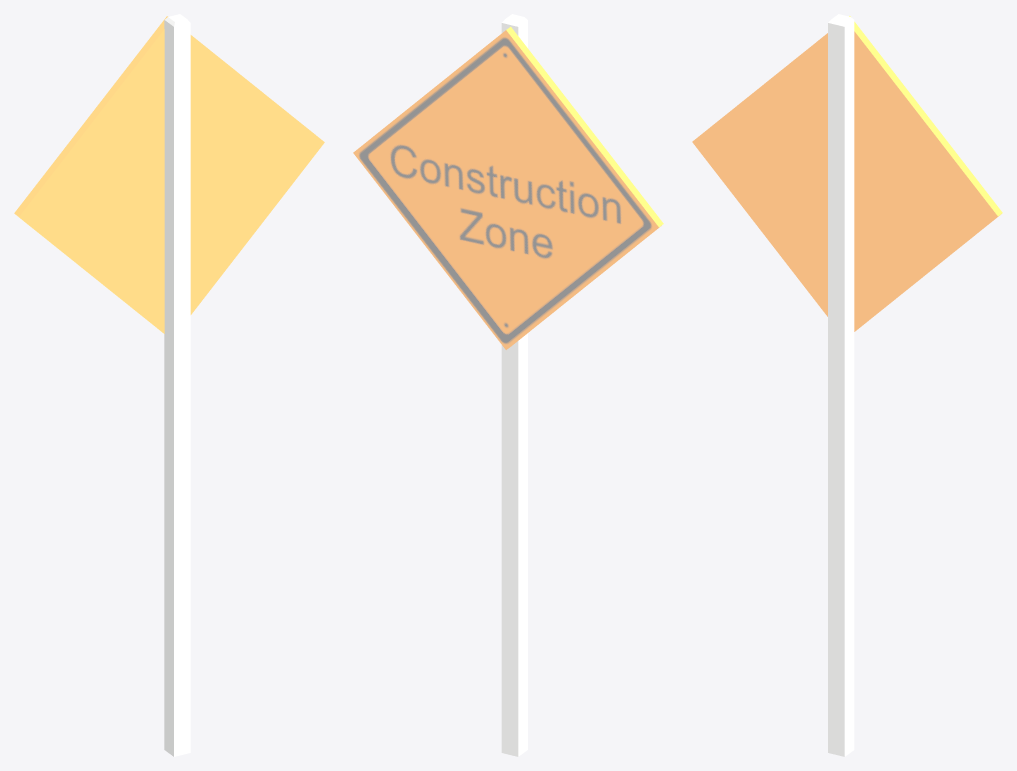
The model's file is signConstruction.glb.
3 views of the same model, side by side, from view 1: azimuth 30°, elevation 25°; view 2: azimuth 150°, elevation 25°; view 3: azimuth 330°, elevation 25° (orthographic).
Parts seen in each view (by area): view 1: Cube.002; view 2: Cube.002; view 3: Cube.002.
Boxes of the visible parts, box(x1,y1,x2,y2) form: Cube.002: box(14, 14, 324, 756); Cube.002: box(353, 14, 663, 756); Cube.002: box(692, 14, 1002, 756).
Size of the model in its own units: 1.16 by 2.66 by 0.0946.
1 material, 1 textured.
